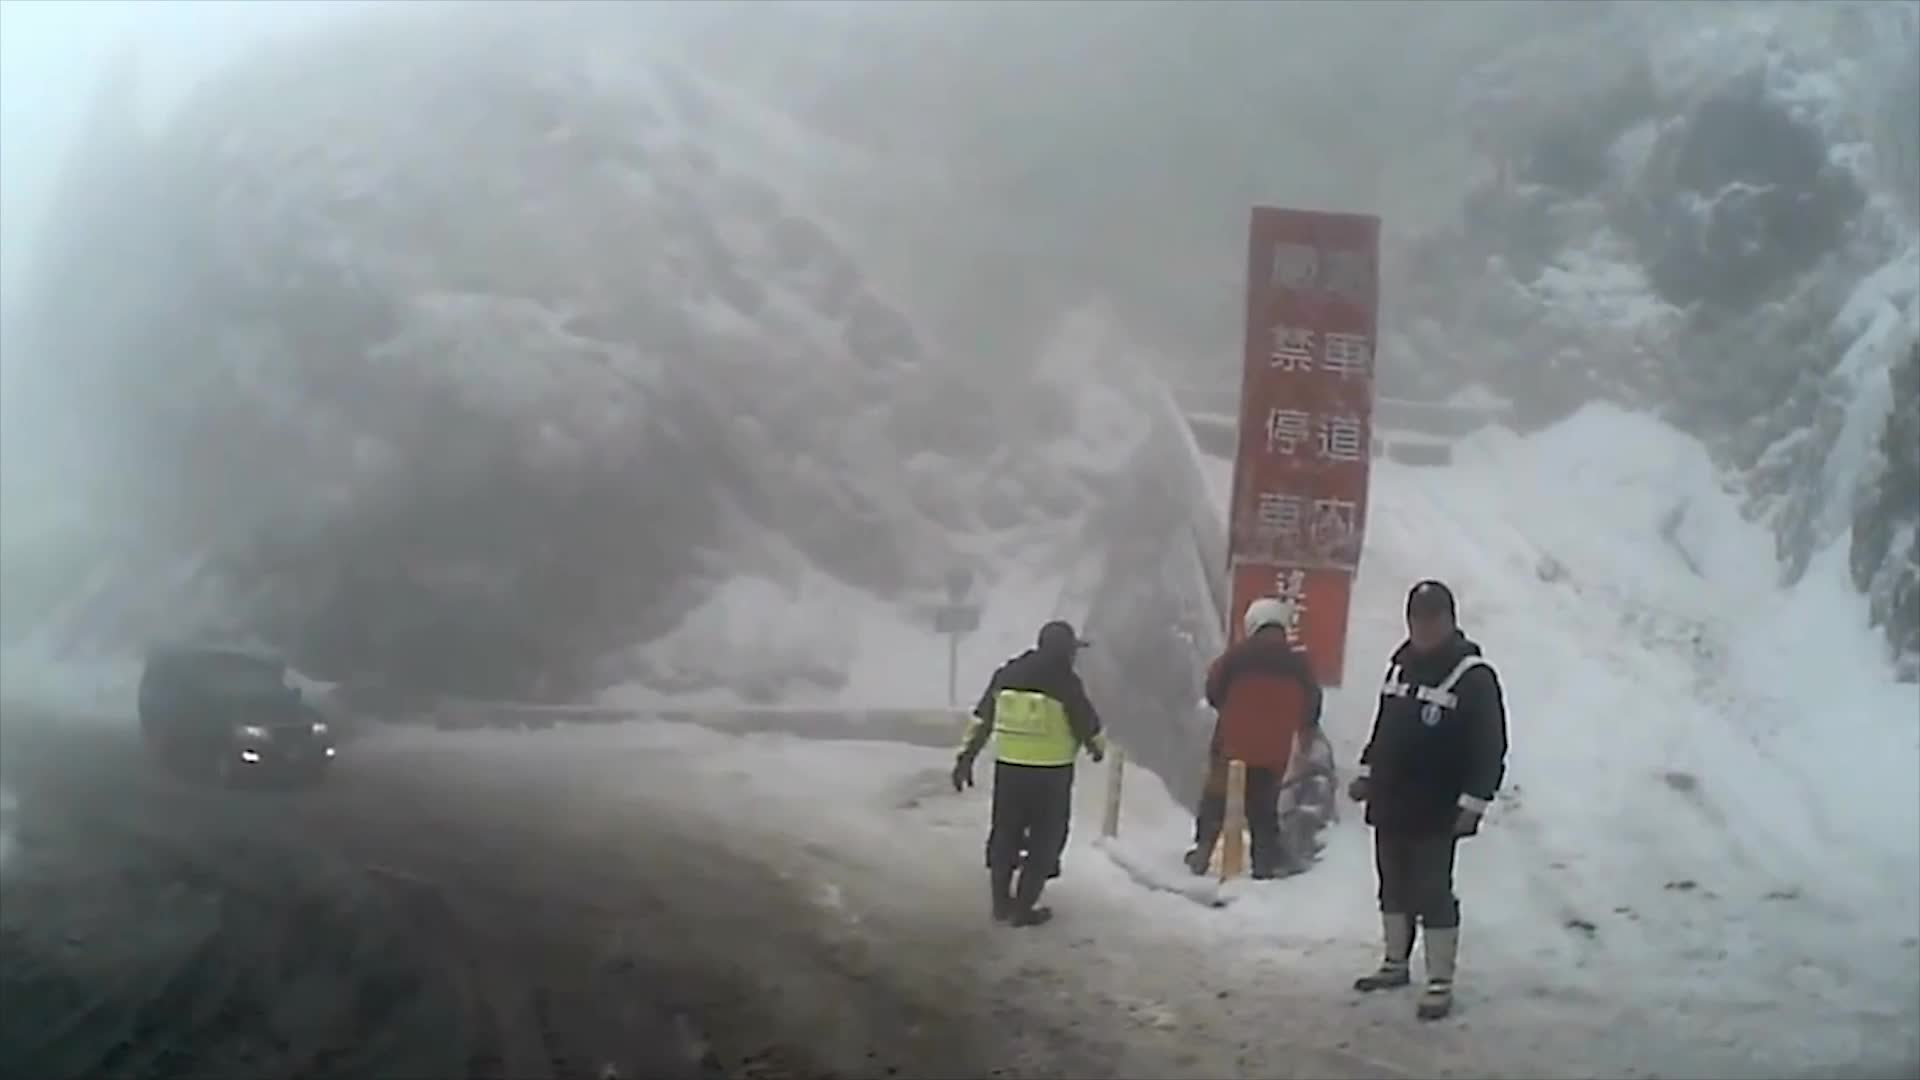pedestrian: (1356, 582, 1515, 1019), (952, 618, 1107, 924), (1186, 600, 1323, 879)
vehicle: (134, 645, 336, 791)
